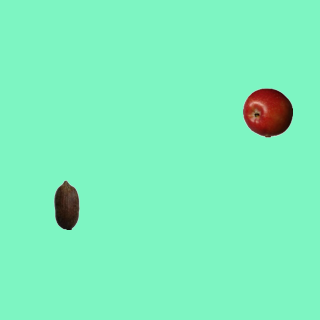Apple Braeburn: (242, 87, 292, 137)
Nut Pecan: (41, 179, 91, 229)
